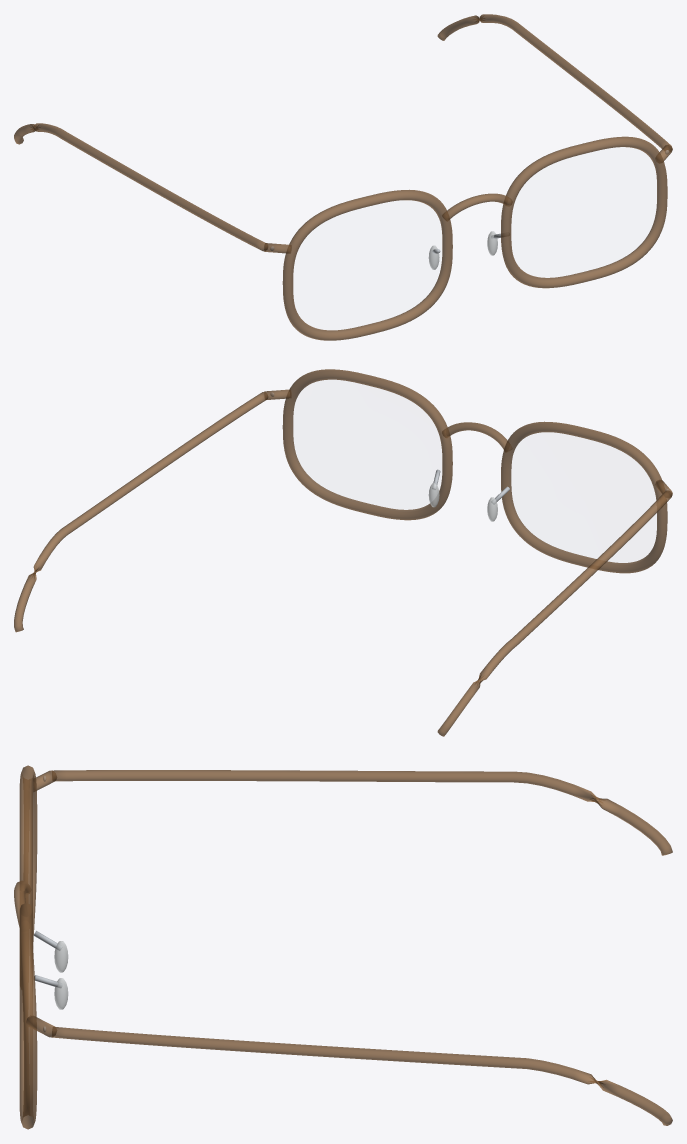
The model's file is tim-51-v1.glb.
3 renders of one model, top to bottom at view 1: azimuth 30°, elevation 25°; view 2: azimuth 150°, elevation 25°; view 3: azimuth 270°, elevation 25°, orthographic. The views are drawn at different scales.
Visible parts, largest first — view 1: rim_right, rim_left, temple_right, temple_left, bridge; view 2: rim_left, rim_right, temple_left, temple_right, bridge; view 3: temple_right, temple_left, rim_left, rim_right.
Part boxes in pixels (box(x1,y1,x2,y2)): rim_right: box(282, 189, 452, 340); rim_left: box(501, 136, 667, 288); temple_right: box(14, 123, 267, 251); temple_left: box(437, 14, 672, 150); bridge: box(442, 193, 512, 221); rim_left: box(282, 369, 452, 520); rim_right: box(501, 421, 667, 573); temple_left: box(14, 392, 267, 632); temple_right: box(437, 490, 672, 736); bridge: box(442, 422, 512, 452); temple_right: box(52, 770, 672, 855); temple_left: box(52, 1027, 672, 1125); rim_left: box(19, 903, 37, 1129); rim_right: box(19, 765, 37, 945).
Size of the model in its own units: 0.1566 by 0.0453 by 0.15.
